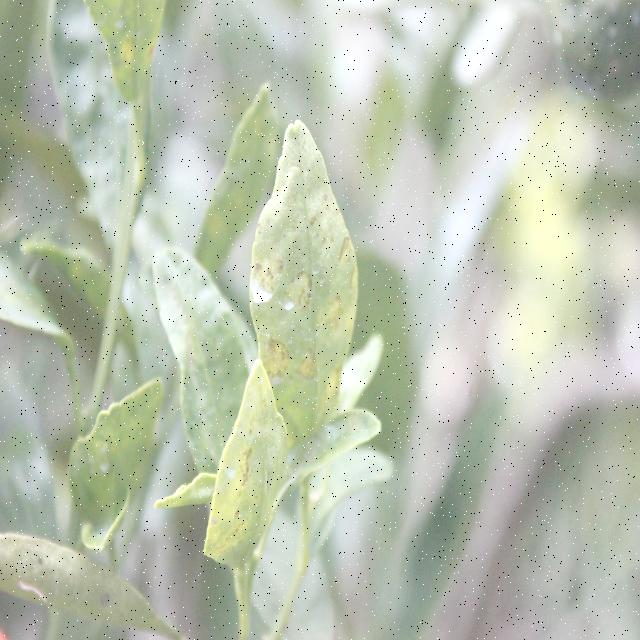canker: (250, 156, 356, 418), (170, 274, 250, 486), (225, 412, 288, 556), (94, 0, 174, 107)
